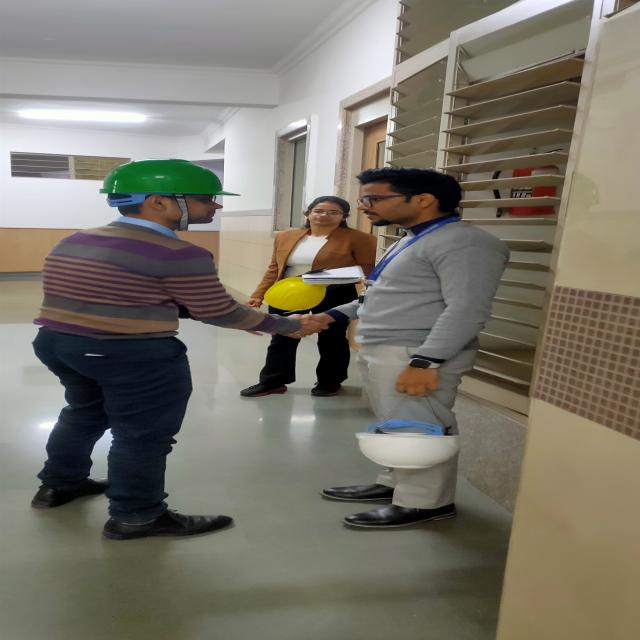no jacket: (31, 158, 294, 541)
unsafe: (344, 166, 508, 528), (252, 194, 372, 396)
